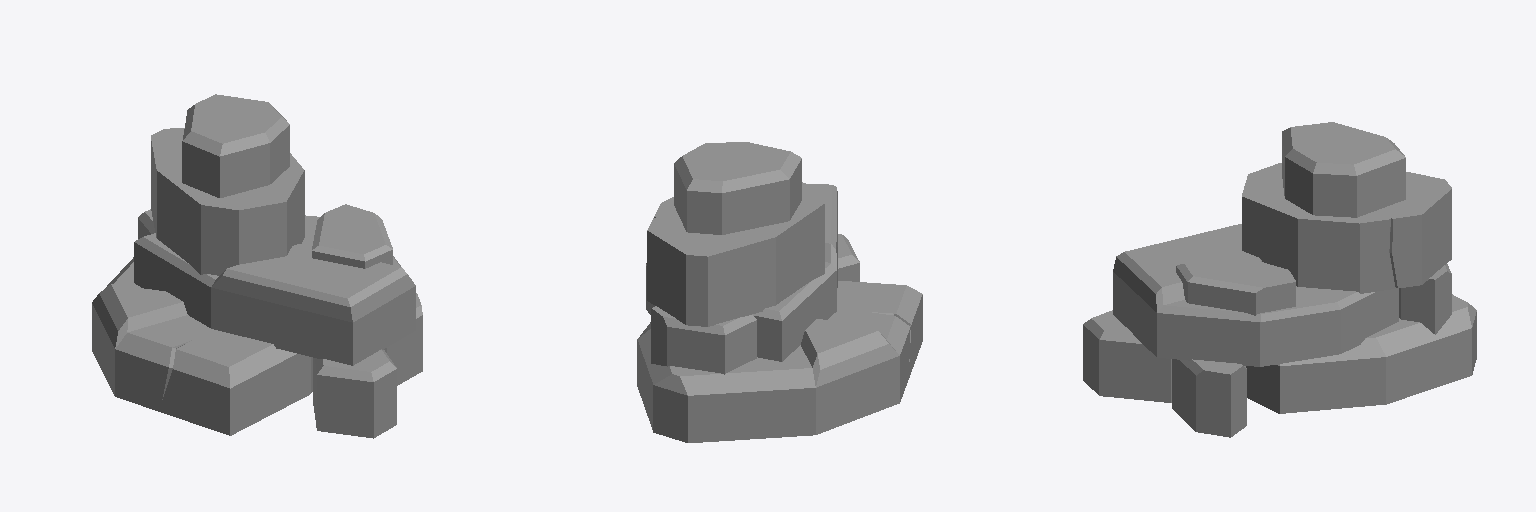
File: rock3.obj
3 views of the same model, side by side, from view 1: azimuth 30°, elevation 25°; view 2: azimuth 150°, elevation 25°; view 3: azimuth 270°, elevation 25° (orthographic).
Parts seen in each view (by area): view 1: Rock_Type1_02_mesh_Circle.001; view 2: Rock_Type1_02_mesh_Circle.001; view 3: Rock_Type1_02_mesh_Circle.001.
Part boxes in pixels (left/top/right/bottom): Rock_Type1_02_mesh_Circle.001: left=92, top=94, right=422, bottom=438; Rock_Type1_02_mesh_Circle.001: left=637, top=142, right=922, bottom=442; Rock_Type1_02_mesh_Circle.001: left=1083, top=122, right=1476, bottom=437.
Size of the model in its own units: 1.92 by 1.55 by 2.4.